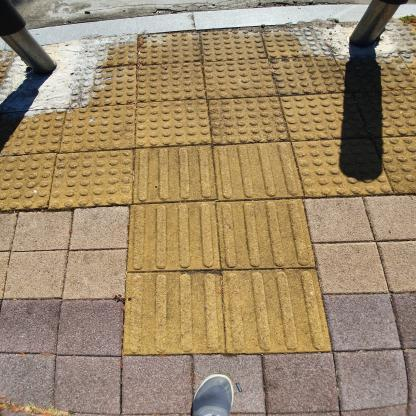podotacti: (0, 17, 415, 217), (105, 189, 344, 363)
